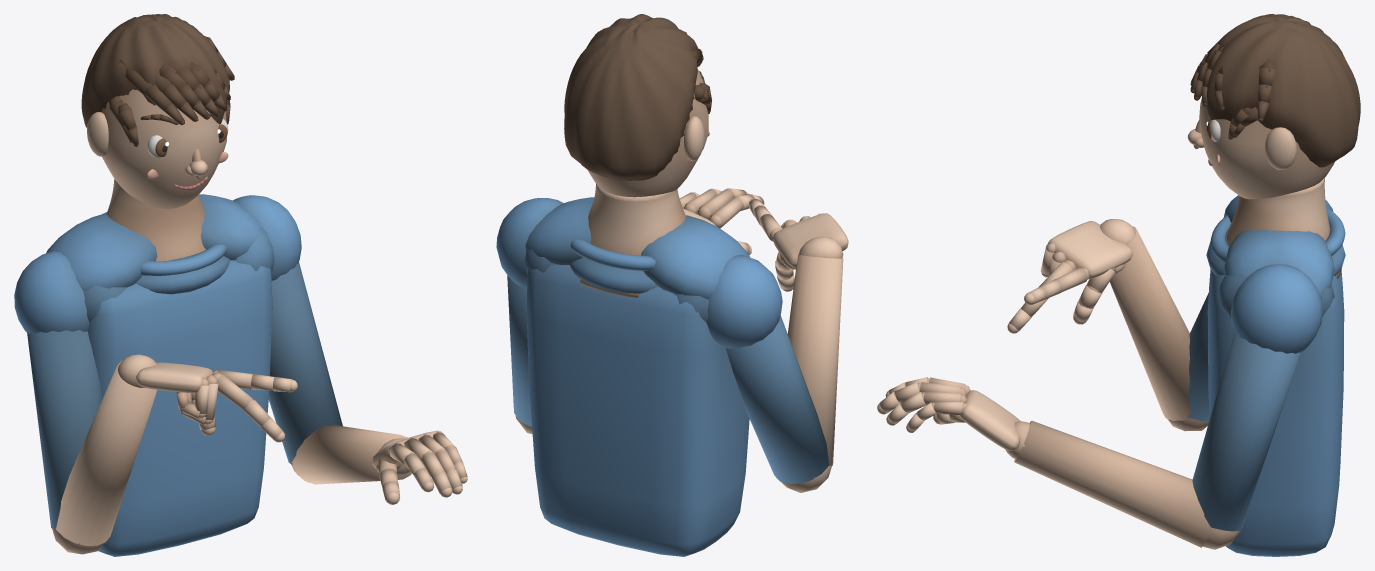
3 renders of one model, left to right at view 1: azimuth 30°, elevation 25°; view 2: azimuth 150°, elevation 25°; view 3: azimuth 270°, elevation 25°, orthographic.
Visible parts, largest first — view 1: LSC_Body; view 2: LSC_Body; view 3: LSC_Body.
Boxes of the visible parts, x1,y1,x2,y2 form: LSC_Body: (14, 14, 467, 556); LSC_Body: (496, 14, 848, 556); LSC_Body: (877, 14, 1360, 556).
Size of the model in its own units: 0.4349 by 0.713 by 0.6104.
